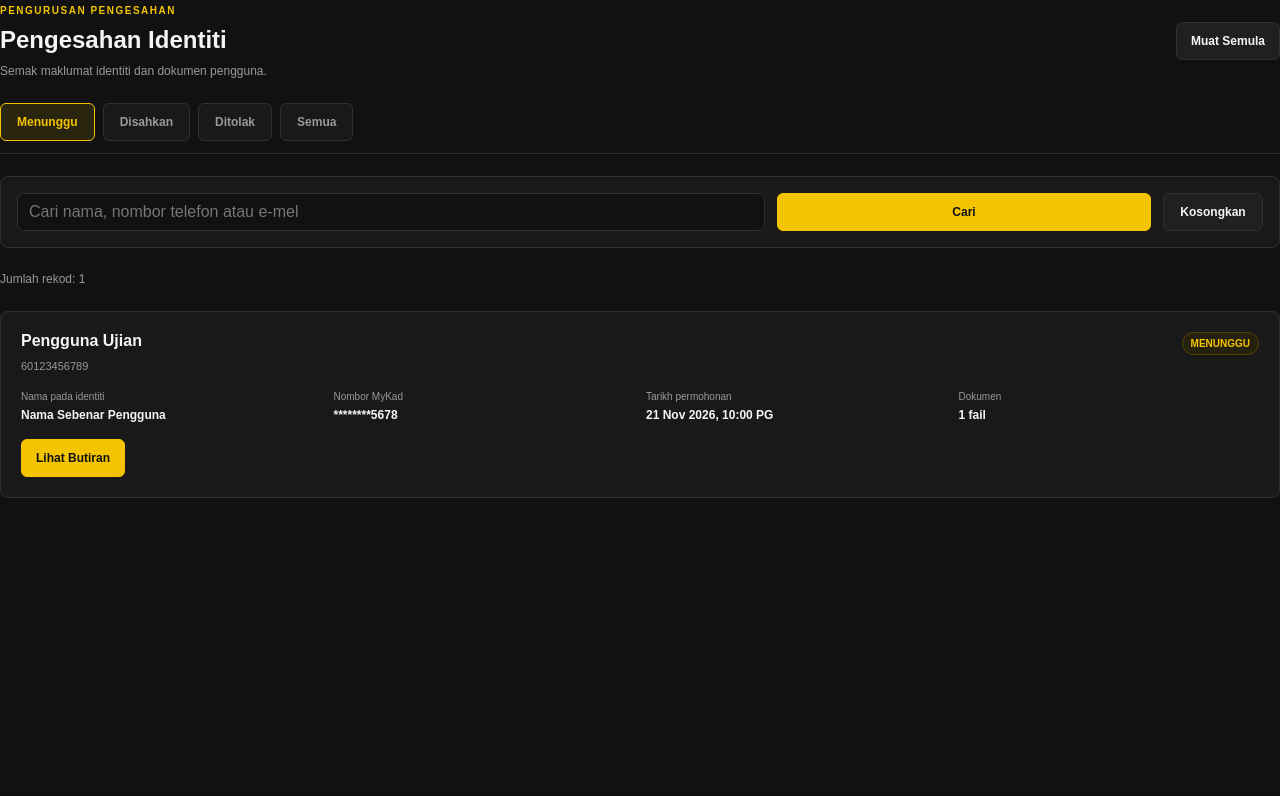
IdentityVerificationsPage › memaparkan butiran permohonan apabila diminta
The width and height of the screenshot is (1280, 796).
Expected: the heading "Pengguna Ujian" is shown, [21, 332, 142, 350]
Click the button "Lihat Butiran" at (73, 458), box [21, 439, 125, 477]
(page scrolled)
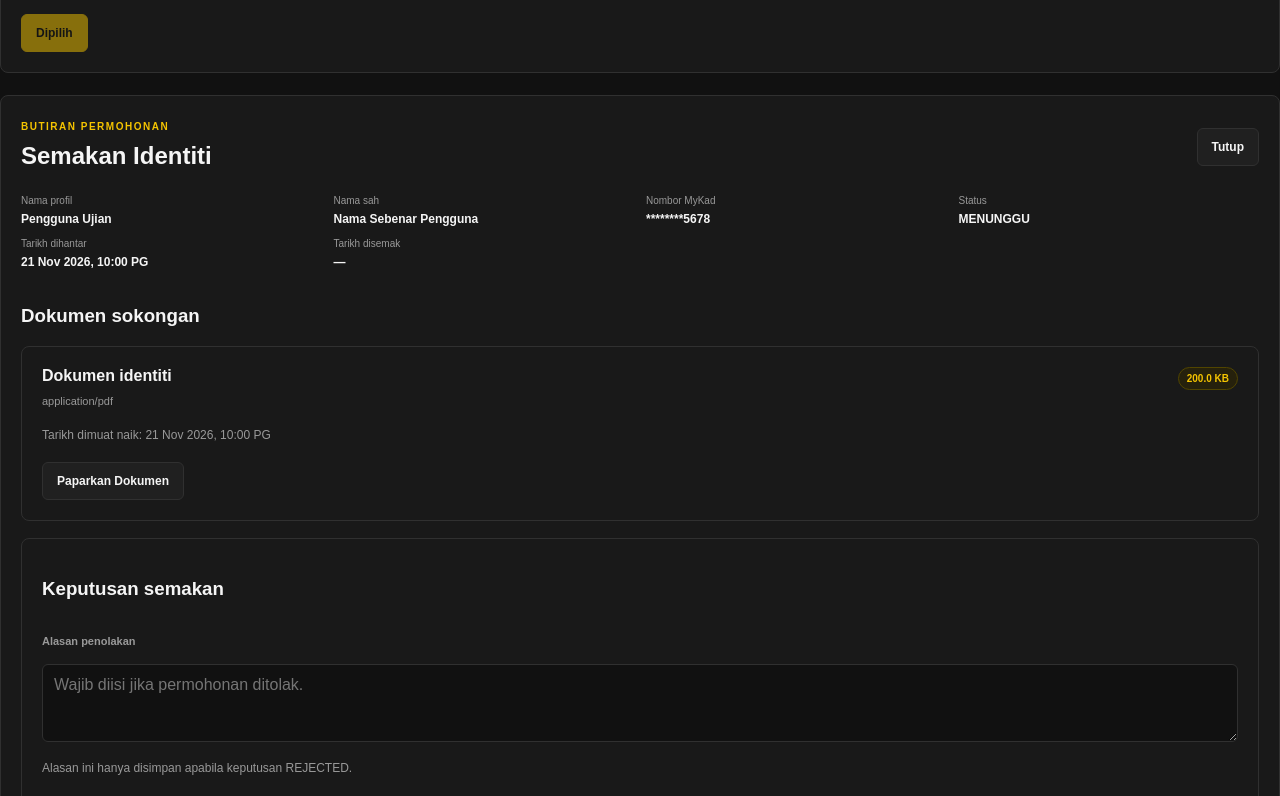
Now the heading "Semakan Identiti" is shown, box [21, 142, 212, 170]
Now the heading "Dokumen sokongan" is shown, box [21, 305, 200, 326]
Now the text "application/pdf" is shown, box [42, 395, 113, 407]
